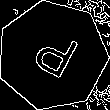P_SW: (24, 24, 81, 87)
